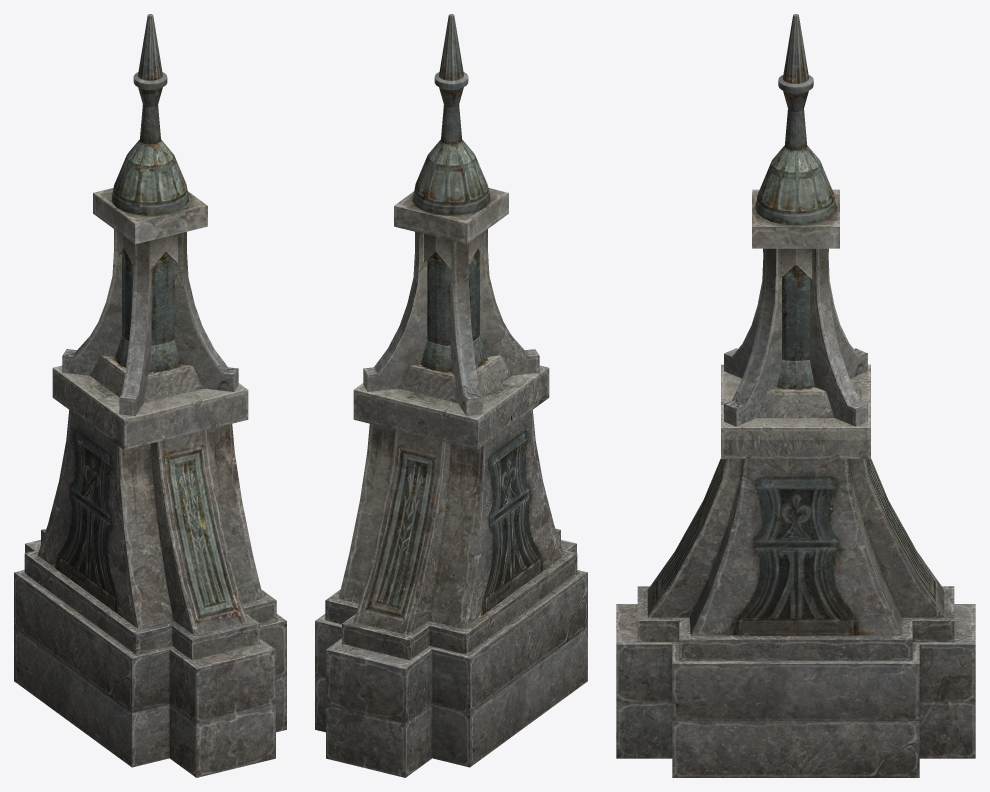
The model's file is bg_lut_lucastle_fountain02c_sm_kss.FBX.
3 renders of one model, left to right at view 1: azimuth 30°, elevation 25°; view 2: azimuth 150°, elevation 25°; view 3: azimuth 270°, elevation 25°, orthographic. The views are drawn at different scales.
Visible parts, largest first — view 1: bg_lut_lucastle_fountain02c_sm_kss; view 2: bg_lut_lucastle_fountain02c_sm_kss; view 3: bg_lut_lucastle_fountain02c_sm_kss.
Boxes of the visible parts, box(x1,y1,x2,y2) form: bg_lut_lucastle_fountain02c_sm_kss: box(14, 14, 286, 777); bg_lut_lucastle_fountain02c_sm_kss: box(315, 14, 587, 777); bg_lut_lucastle_fountain02c_sm_kss: box(616, 14, 975, 777).
Size of the model in its own units: 75.26 by 321 by 144.
